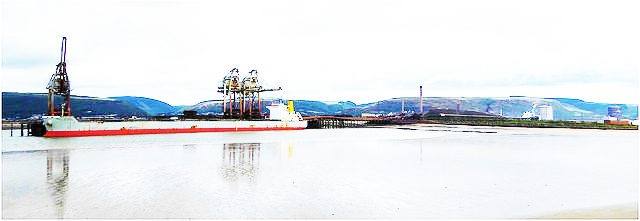bulk carrier: (41, 97, 314, 138)
